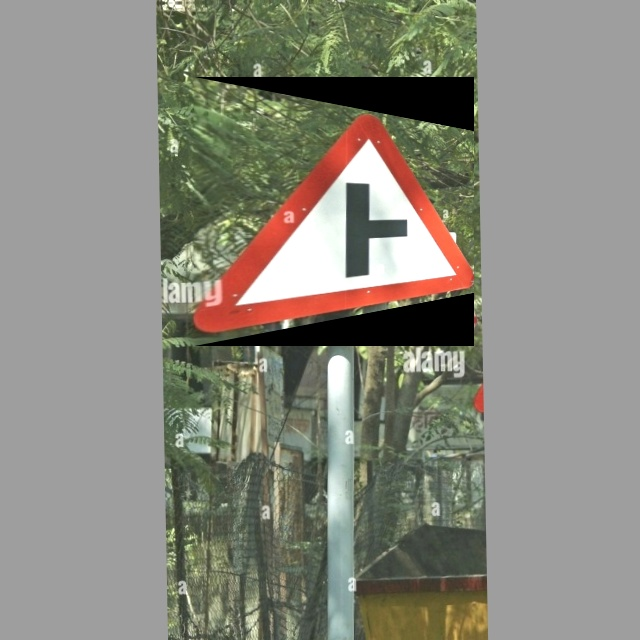Side_Road_Right: (194, 77, 474, 346)
